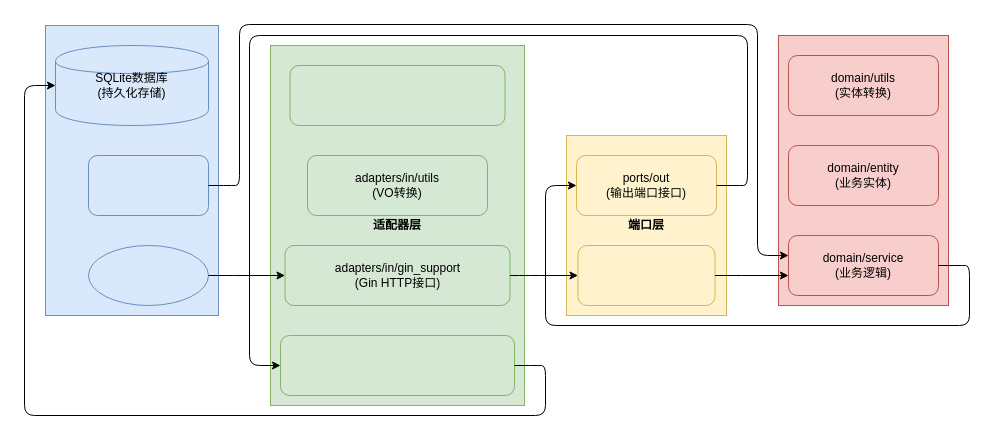
This 995x441 diagram has some shape labels left out. The shapes that lost their labels are listed below. From the top down, each one's centre as x and y in pixels, then its label:
At point 397,95: "adapters/out/db/fake (测试假数据实现)".
At point 148,185: "main.go (程序入口)".
At point 148,275: "Vue3前端 (用户界面)".
At point 646,275: "ports/in (输入端口/DTO)".
At point 397,365: "adapters/out/db/sqlite (SQLite数据库实现)".
